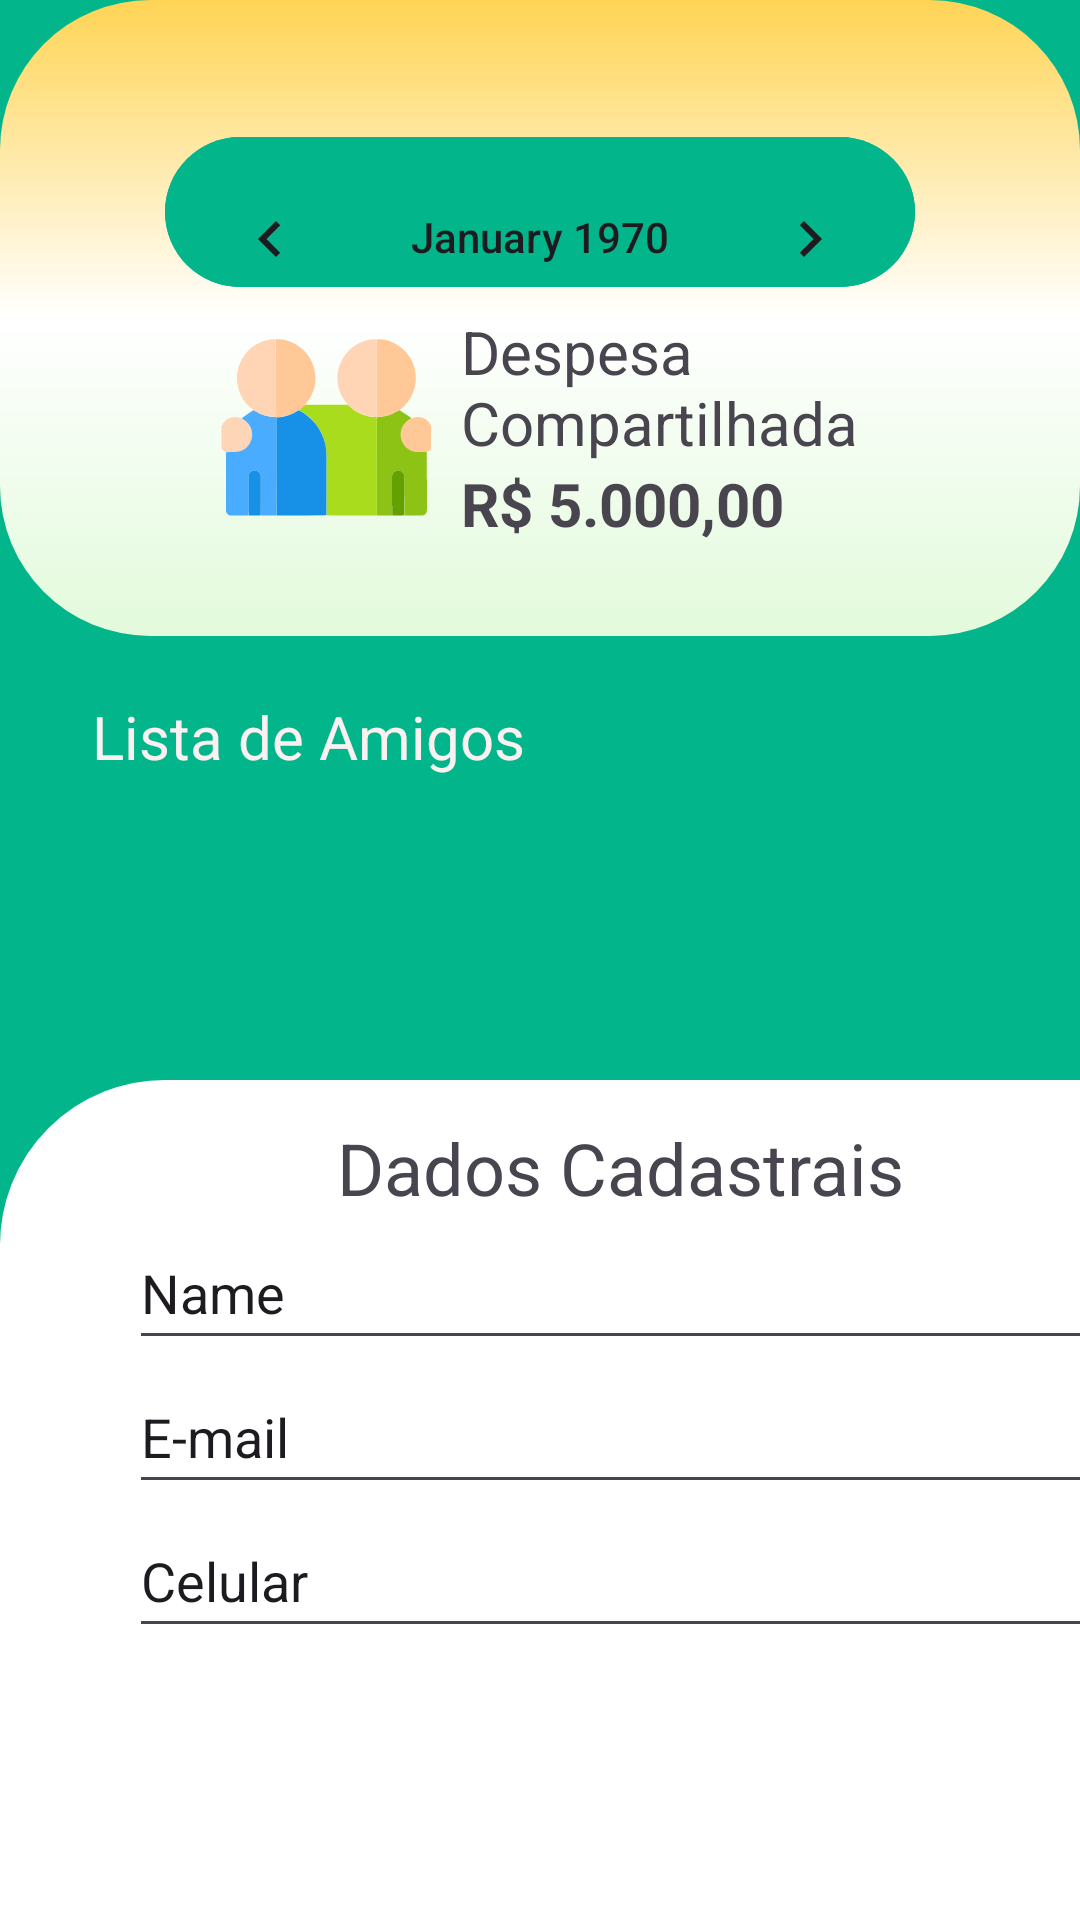

Named icons in this screenshot (1080px×1920px) and their bounding boxes, BBox(x1, y1, x2, y2):
amigos: BBox(221, 339, 431, 516)
